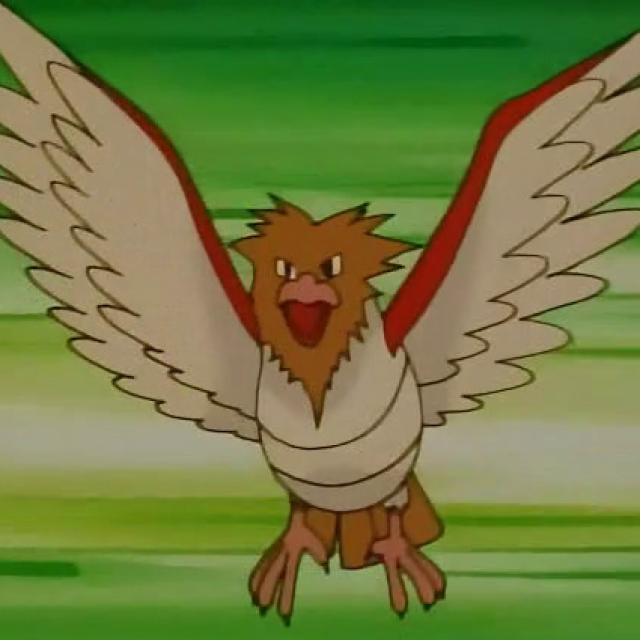Spearow: (132, 187, 518, 615)
